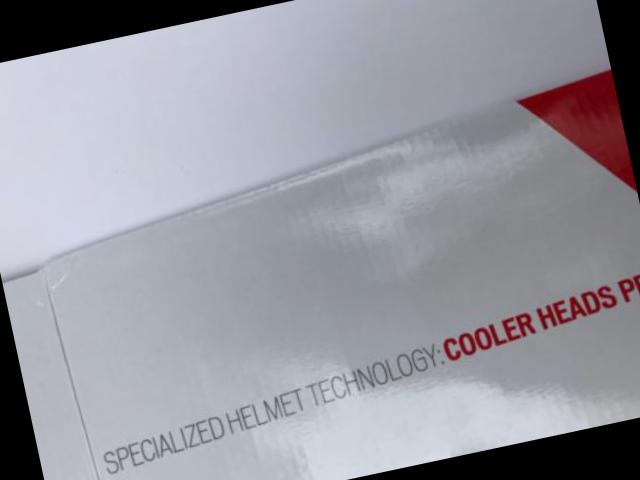cardboard paper: (2, 70, 640, 480)
